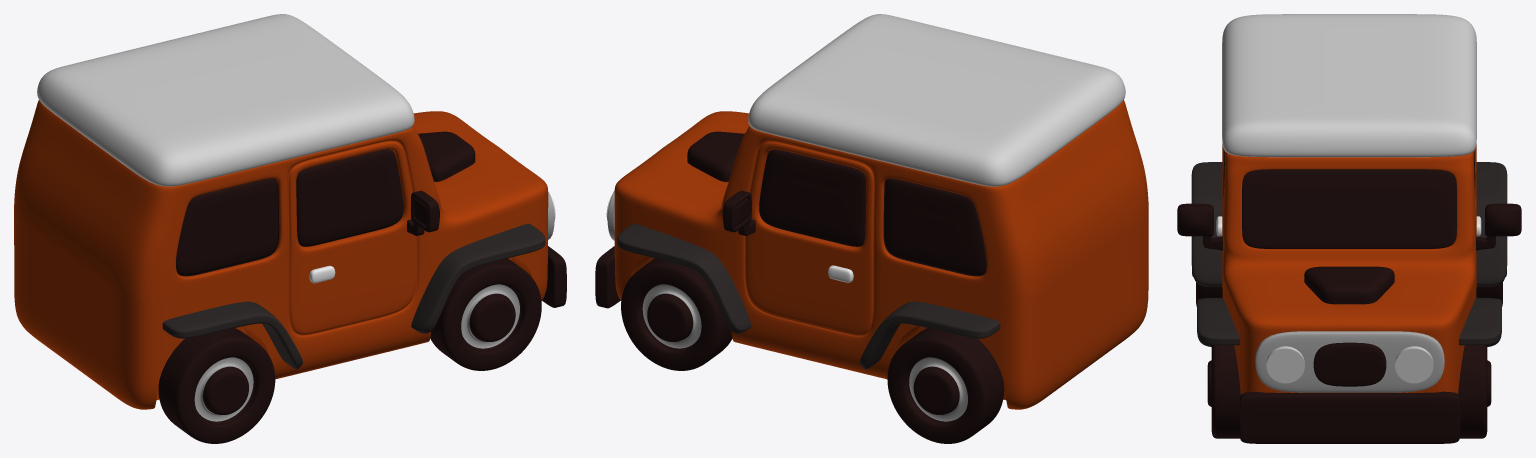
Rendered from jeep-3d-icon-1335671292571.glb.
3 views of the same model, side by side, from view 1: azimuth 30°, elevation 25°; view 2: azimuth 150°, elevation 25°; view 3: azimuth 270°, elevation 25° (orthographic). The views are drawn at different scales.
Parts seen in each view (by area): view 1: Body, Roof, Windows, Tires, Fenders, Rims, Mirrors, Bumper; view 2: Body, Roof, Windows, Tires, Fenders, Rims, Mirrors, Bumper; view 3: Roof, Body, Windows, Bumper, Fenders, Tires, Front Panel, Mirrors, Grill, Lamp.
Boxes of the visible parts, box(x1,y1,x2,y2) form: Body: box(14, 100, 548, 409); Roof: box(37, 14, 414, 186); Windows: box(176, 131, 475, 276); Tires: box(158, 258, 541, 443); Fenders: box(162, 223, 545, 369); Rims: box(194, 284, 519, 421); Mirrors: box(407, 190, 439, 235); Bumper: box(542, 246, 566, 307); Body: box(614, 100, 1148, 409); Roof: box(748, 14, 1125, 186); Windows: box(687, 131, 986, 276); Tires: box(621, 258, 1004, 443); Fenders: box(617, 223, 1000, 369); Rims: box(642, 284, 967, 421); Mirrors: box(722, 190, 755, 235); Bumper: box(595, 246, 620, 308); Roof: box(1222, 14, 1476, 157); Body: box(1222, 144, 1476, 394); Windows: box(1223, 151, 1475, 304); Bumper: box(1239, 391, 1460, 443); Fenders: box(1191, 162, 1507, 346); Tires: box(1192, 270, 1506, 438); Front Panel: box(1255, 331, 1444, 392); Mirrors: box(1177, 203, 1521, 250); Grill: box(1313, 342, 1386, 386); Lamp: box(1266, 346, 1433, 383).
Size of the model in its own units: 0.7921 by 0.489 by 0.5559.
